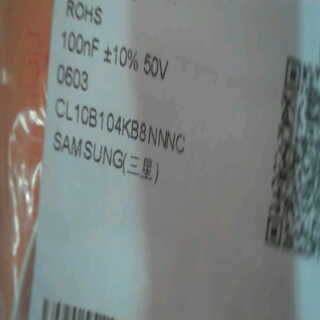100nF: (47, 29, 97, 62)
